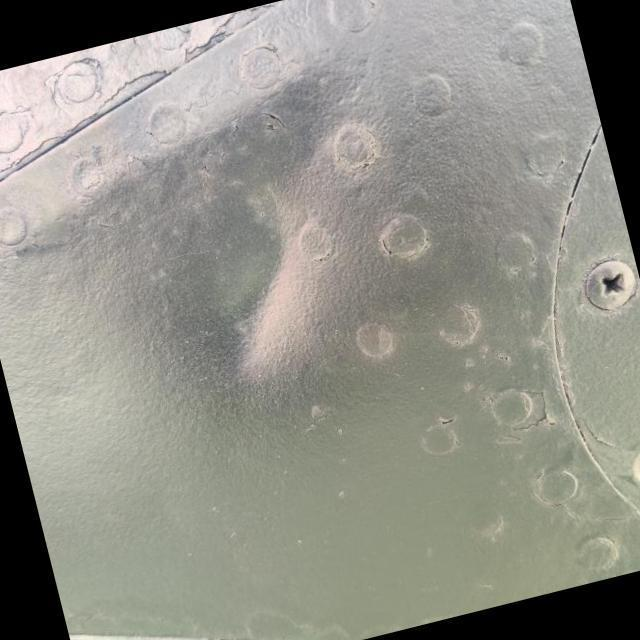Dent: (110, 50, 437, 419)
Fastener Damage: (591, 410, 640, 532)
